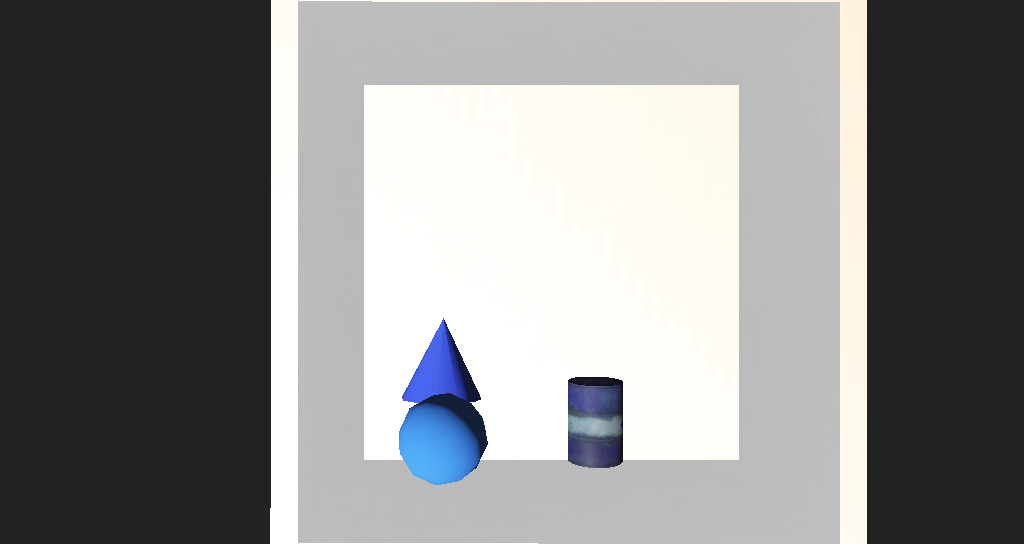cone: (522, 327, 569, 379)
cylinder: (384, 293, 451, 346)
sphere: (381, 334, 455, 382)
